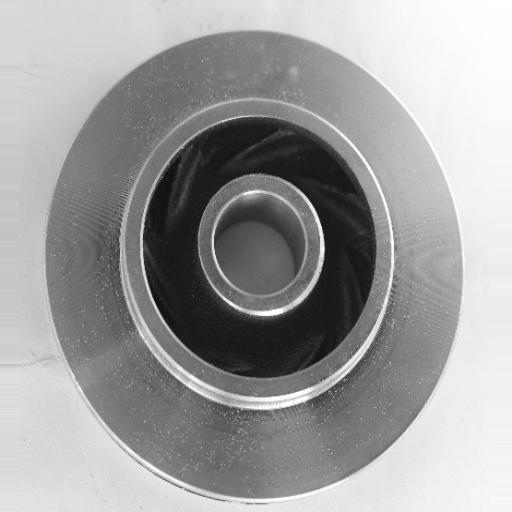polished_casting: (45, 26, 466, 504)
